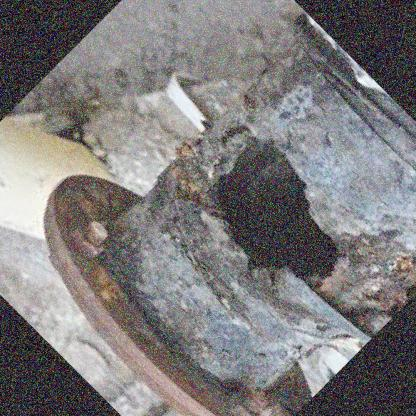burst: (205, 148, 346, 288)
